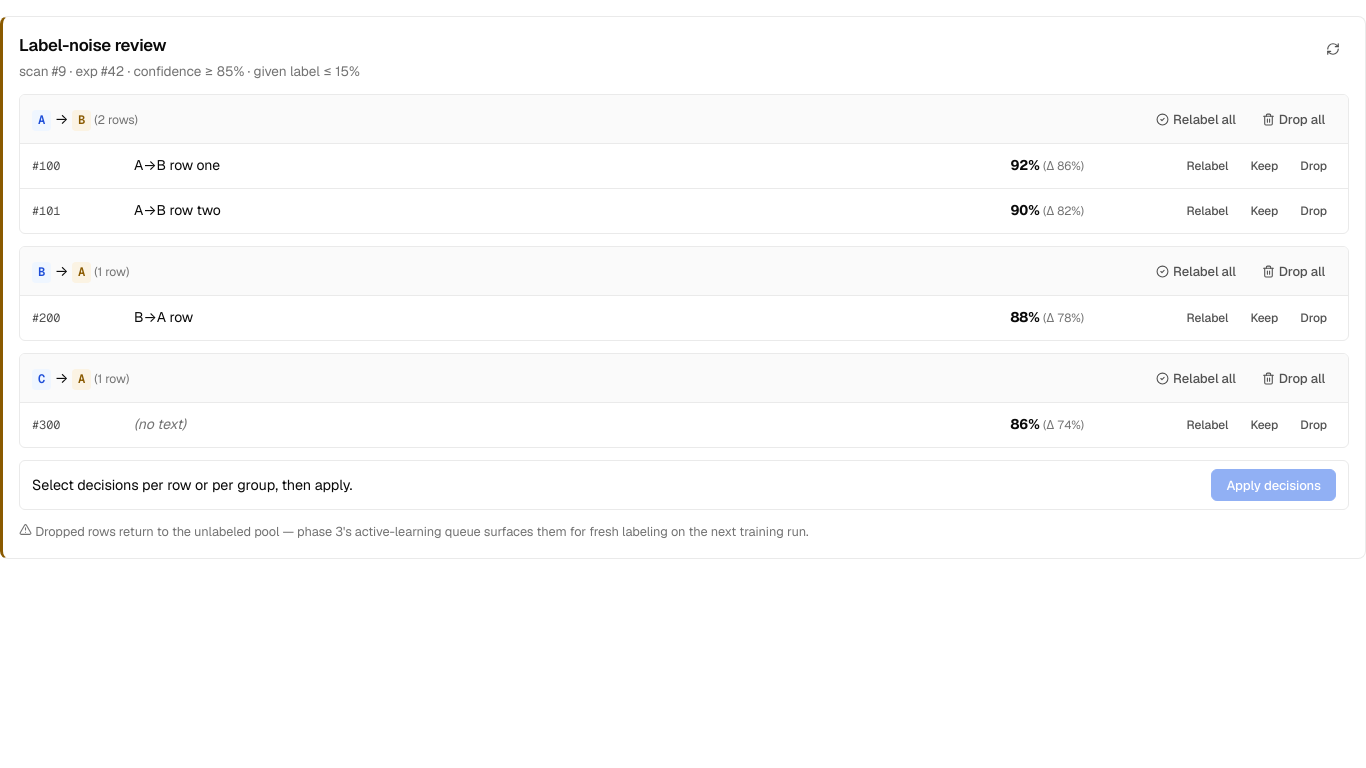
Test: LabelNoiseReviewPanel › selects all rows in a group with the "Relabel all" affordance and applies
Click the button with aria-label "Relabel all 2 rows as B".
click(1196, 119)  # box [1145,103,1247,135]
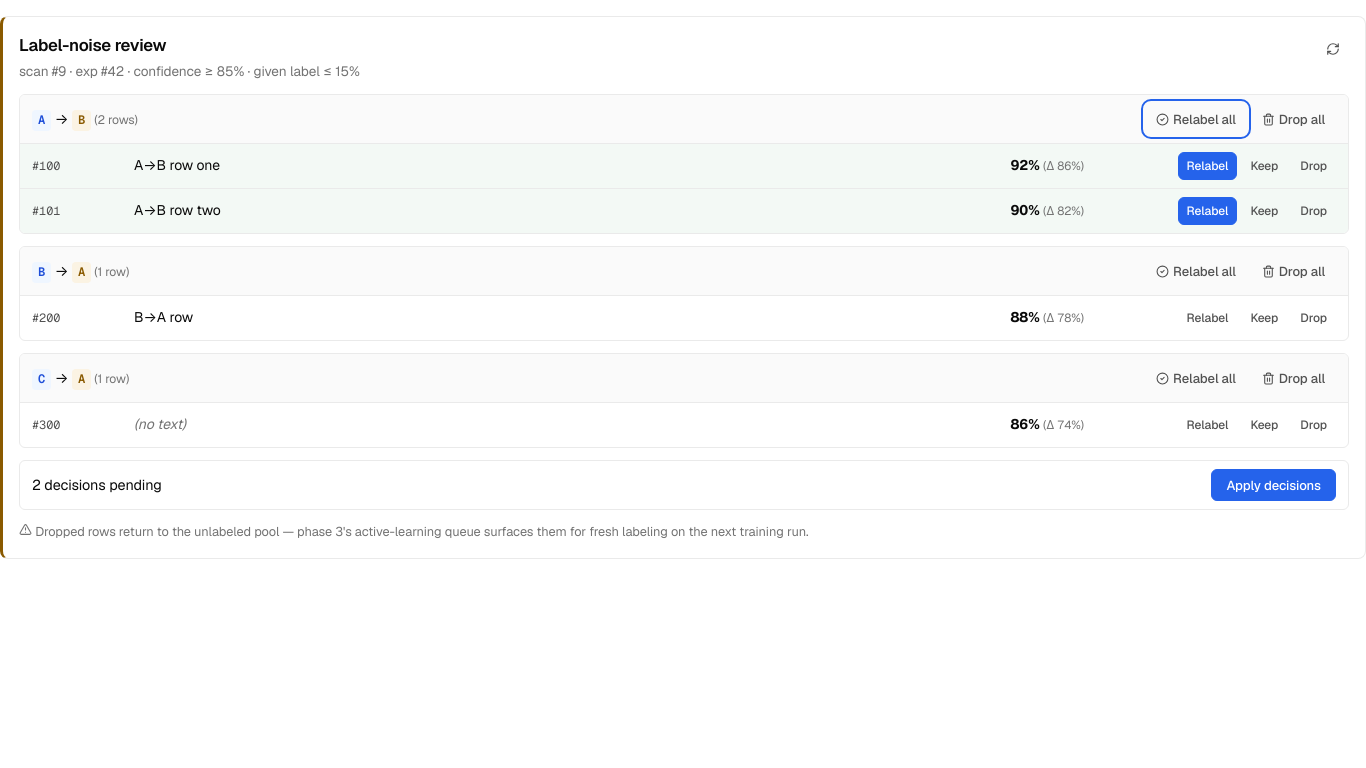
Result: the text "2 decisions pending" is shown at [32,474,162,496]
Click the button "Apply decisions".
click(1274, 485)  # box [1211,469,1336,501]
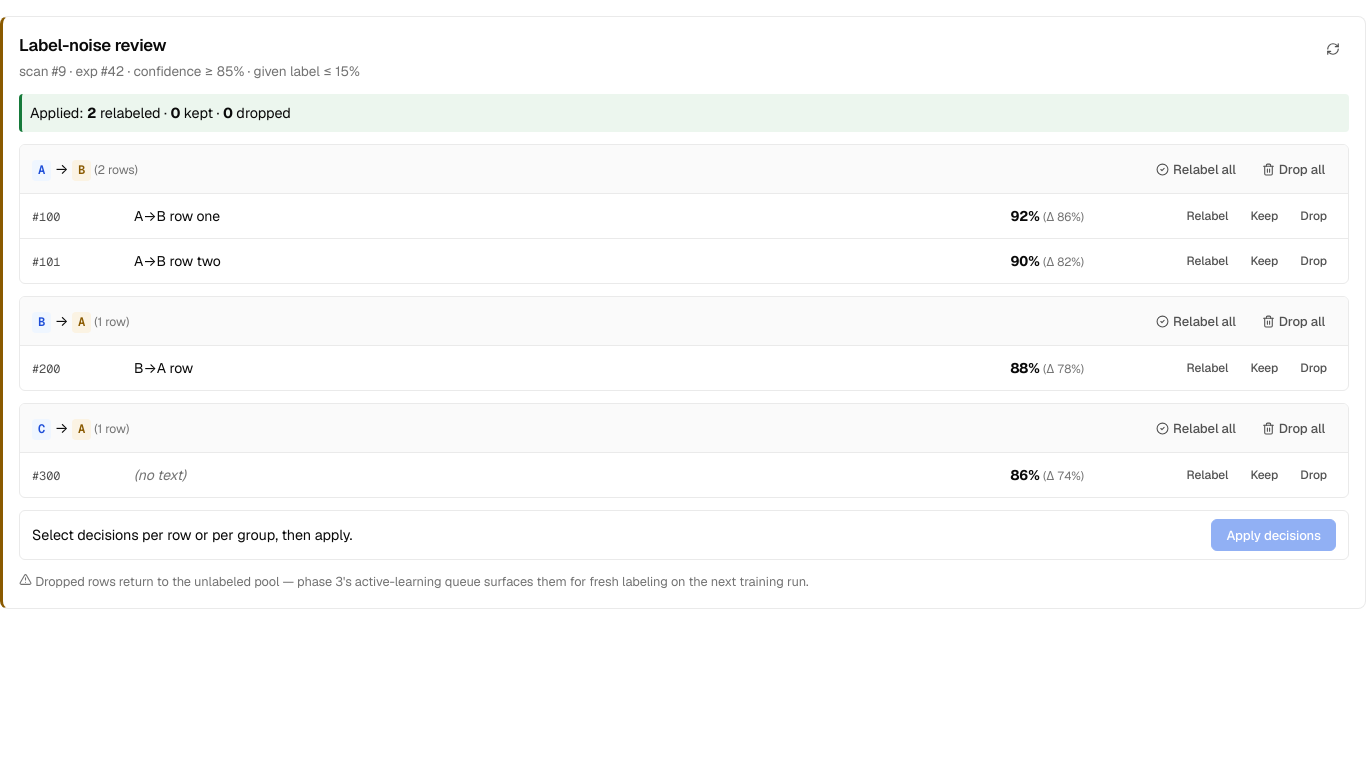
Result: the text "Applied: 2 relabeled · 0 kept · 0 dropped" is shown at [19,94,1349,132]
